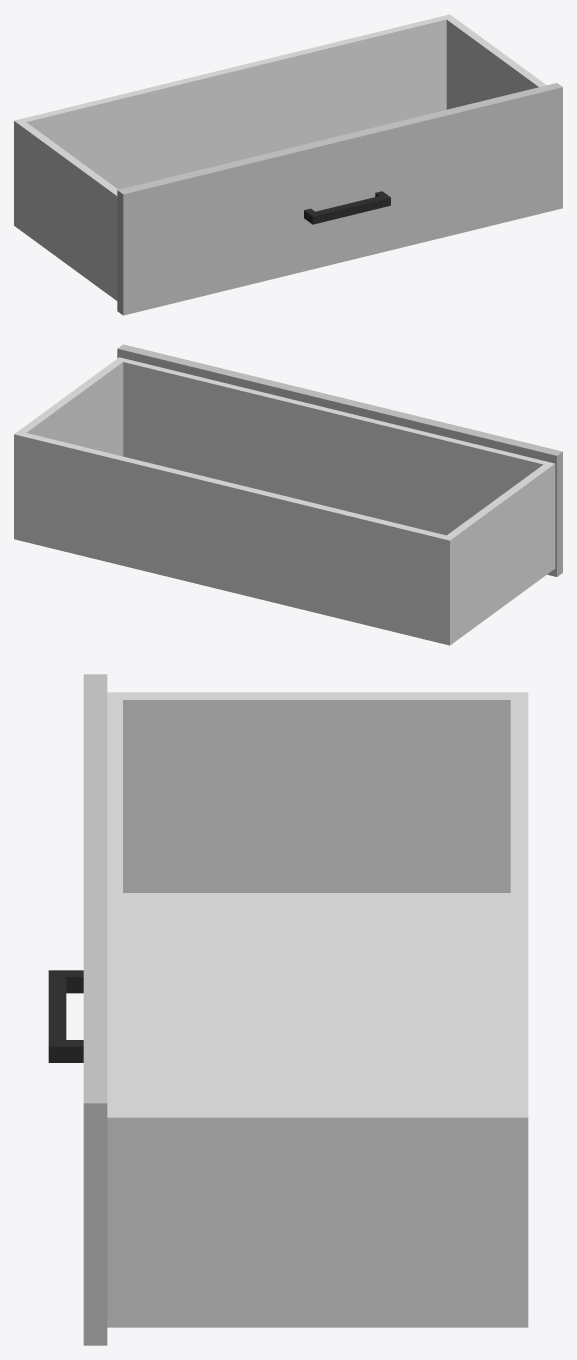
File: Dresser2_C3_02.fbx
The picture shows the model from 3 angles, top to bottom: view 1: azimuth 30°, elevation 25°; view 2: azimuth 150°, elevation 25°; view 3: azimuth 270°, elevation 25°; orthographic projection. The views are drawn at different scales.
Visible parts, largest first — view 1: Dresser2_C3_02; view 2: Dresser2_C3_02; view 3: Dresser2_C3_02.
Part boxes in pixels (bbox=[...]): Dresser2_C3_02: bbox=[14, 14, 562, 315]; Dresser2_C3_02: bbox=[14, 344, 562, 645]; Dresser2_C3_02: bbox=[48, 674, 528, 1345].
Size of the model in its own units: 85.7 by 22.57 by 40.51.
